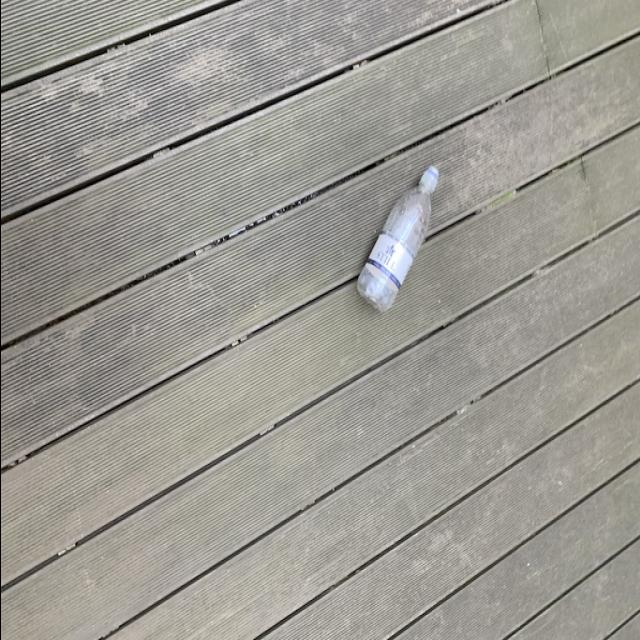PET: (352, 166, 439, 316)
